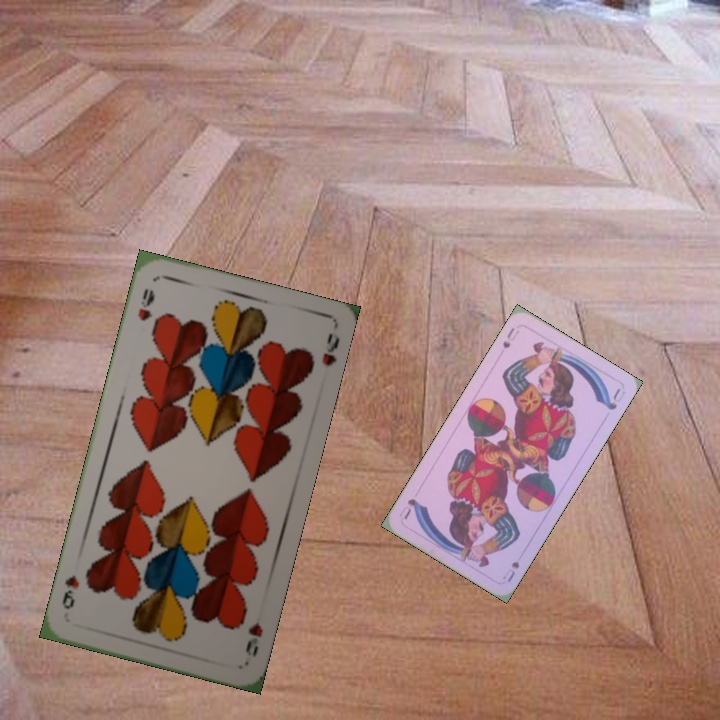H9: (241, 618, 266, 659), (133, 284, 157, 324)
SU: (498, 557, 522, 585), (499, 323, 522, 351)
